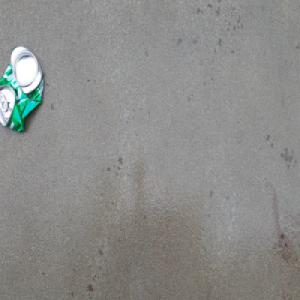SodaCan: (0, 44, 44, 134)
